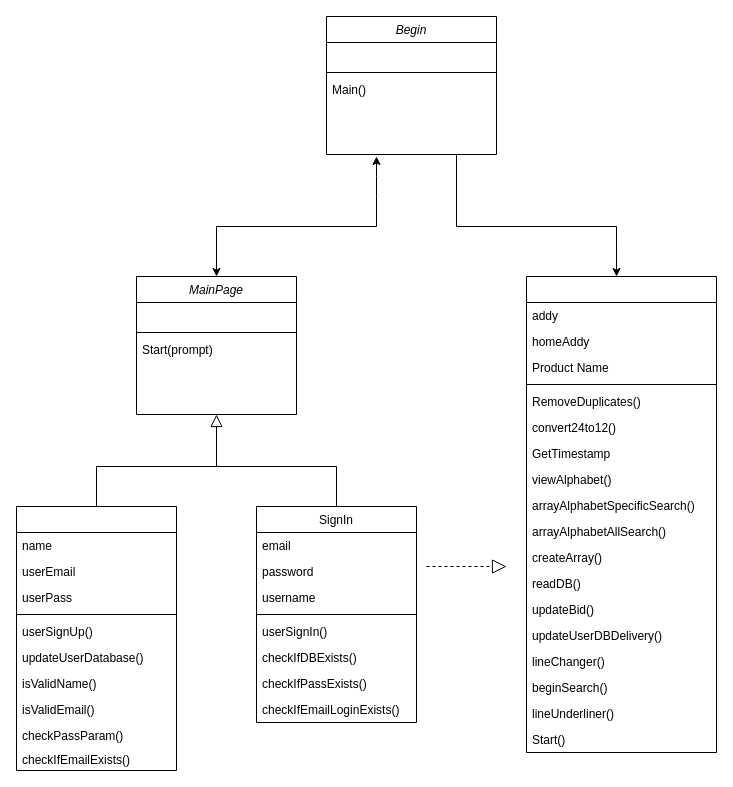
Image size: 733x787. Some labels were removed from this diagram. Here are the shapes that lost their labels. From the top down, the box of each, then its label:
(526, 276, 716, 752): FrontPage
(16, 506, 176, 770): Registration
